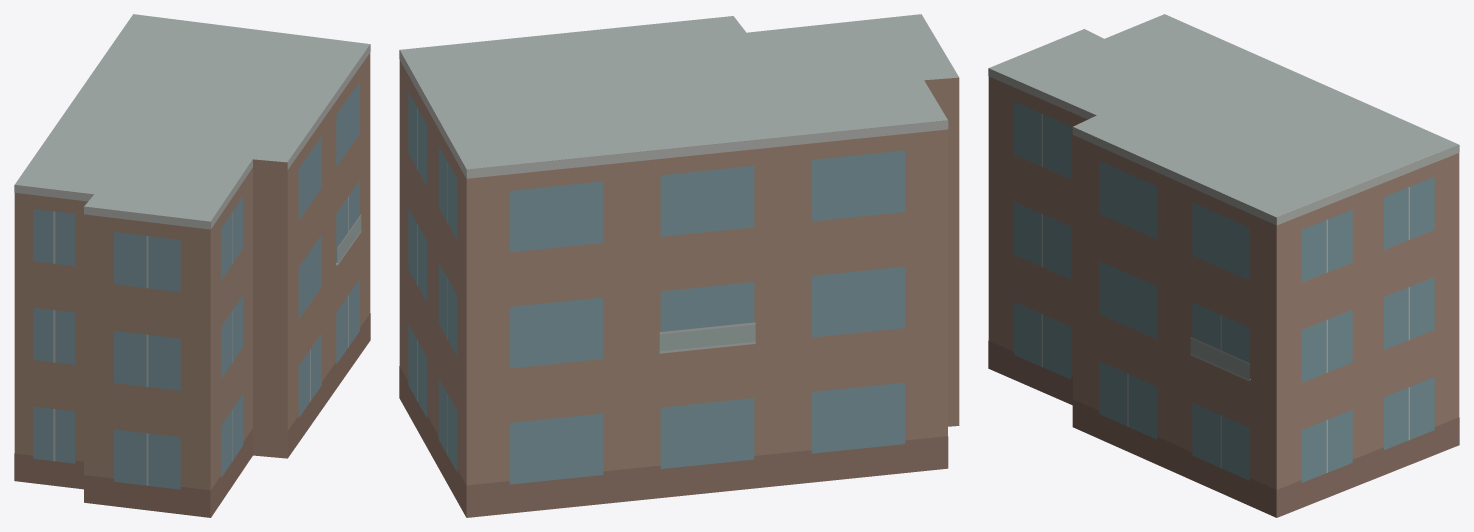
Rendered from survey-upis-32770733.glb.
3 views of the same model, side by side, from view 1: azimuth 30°, elevation 25°; view 2: azimuth 150°, elevation 25°; view 3: azimuth 270°, elevation 25° (orthographic). The views are drawn at different scales.
Visible parts, largest first — view 1: survey-upis-32770733.tmp; view 2: survey-upis-32770733.tmp; view 3: survey-upis-32770733.tmp.
Boxes of the visible parts, <box> form: survey-upis-32770733.tmp: <box>14,14,370,517</box>; survey-upis-32770733.tmp: <box>399,14,959,517</box>; survey-upis-32770733.tmp: <box>988,14,1459,517</box>.
Bounding box in the file's own units: 13.3 × 9.15 × 13.01.
